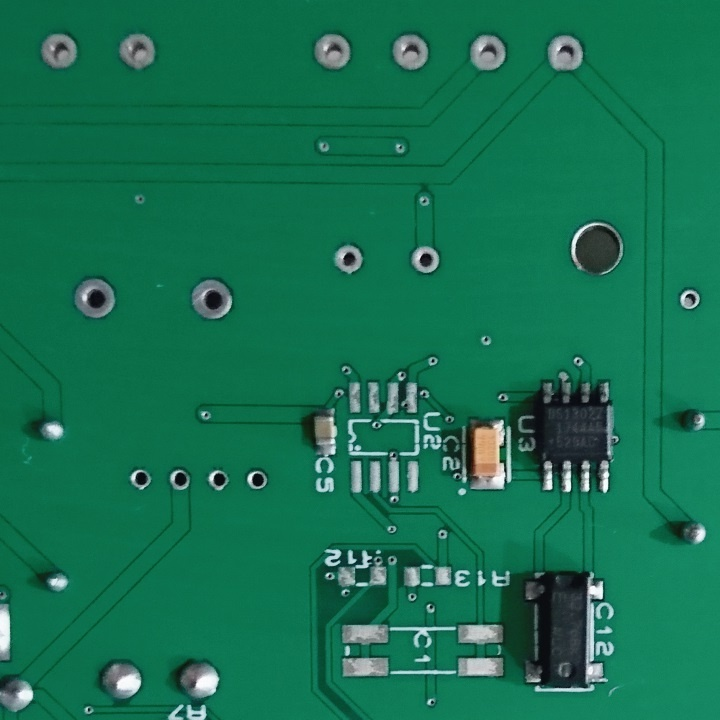F: (185, 276, 239, 323), (70, 274, 117, 325), (543, 29, 587, 80), (310, 27, 355, 72), (466, 30, 509, 75), (36, 29, 81, 71), (113, 31, 159, 72), (389, 31, 430, 73), (331, 240, 365, 278), (408, 245, 444, 278), (678, 286, 703, 314), (128, 465, 152, 493), (166, 466, 191, 492), (247, 467, 270, 494), (207, 466, 230, 491)
